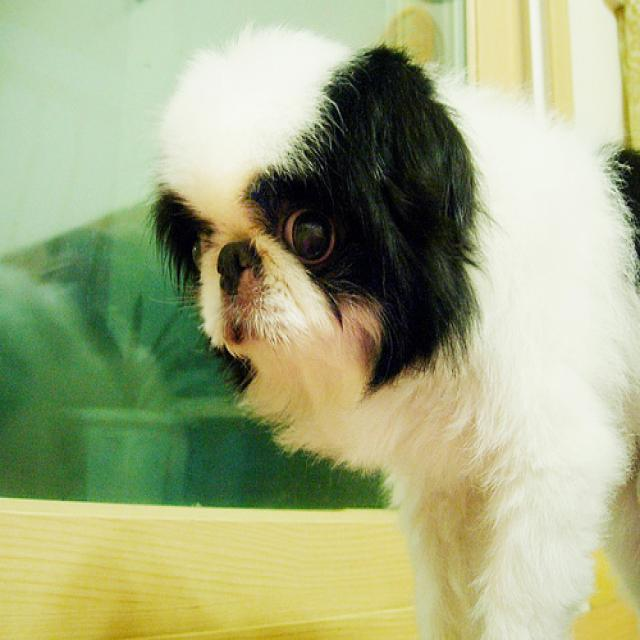dog-japanese_chin: (138, 11, 637, 637)
